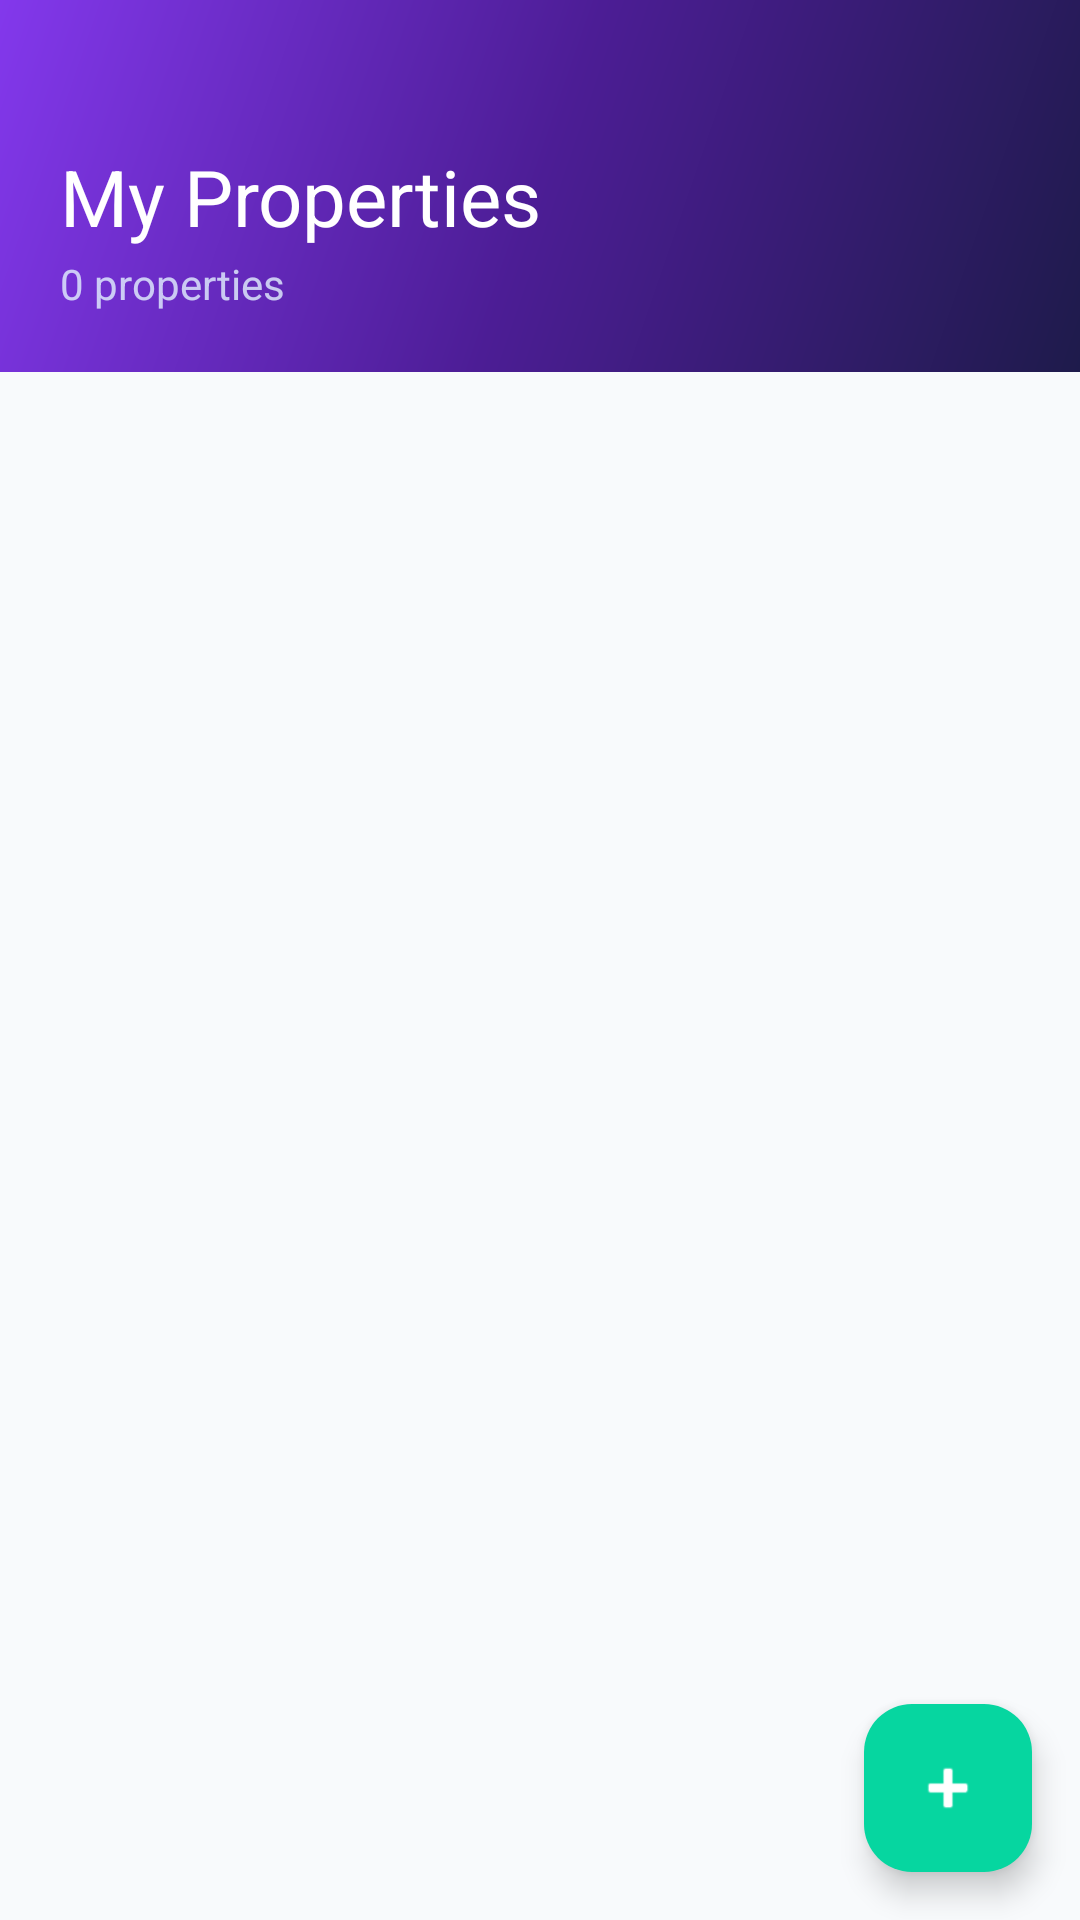

Where to tap for icons on this 1080 × 1920 app screen, as (x,y):
Add New PG: (948,1788)
